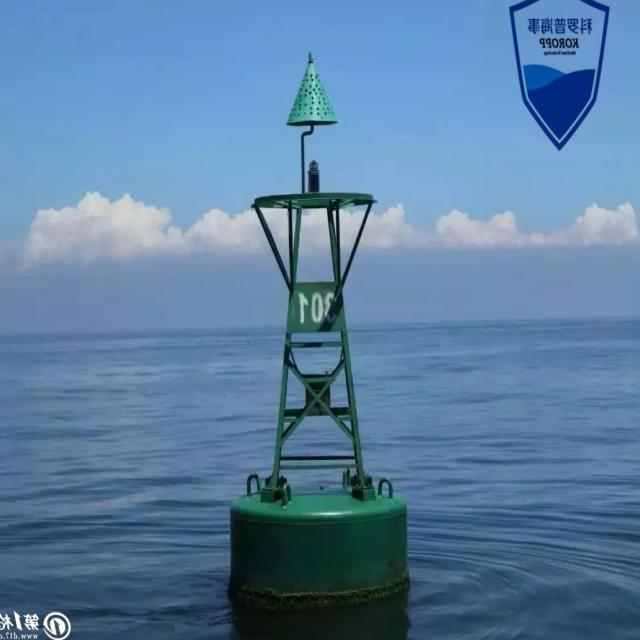buoy: (224, 44, 414, 604)
